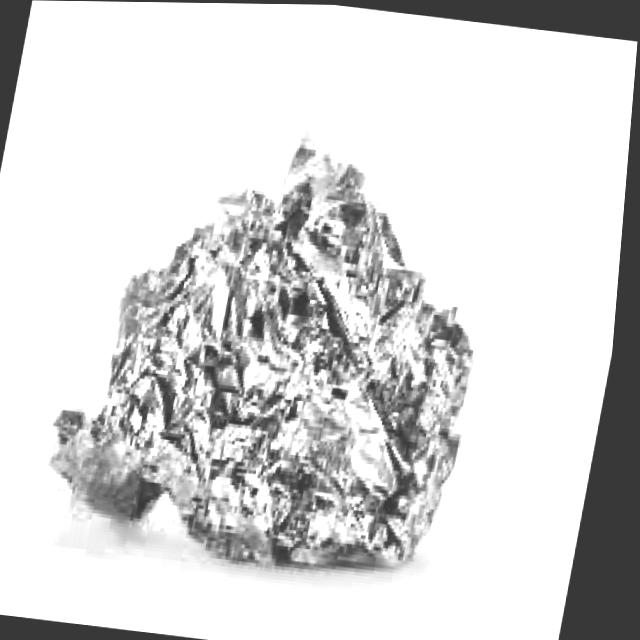Foil: (20, 97, 531, 589)
